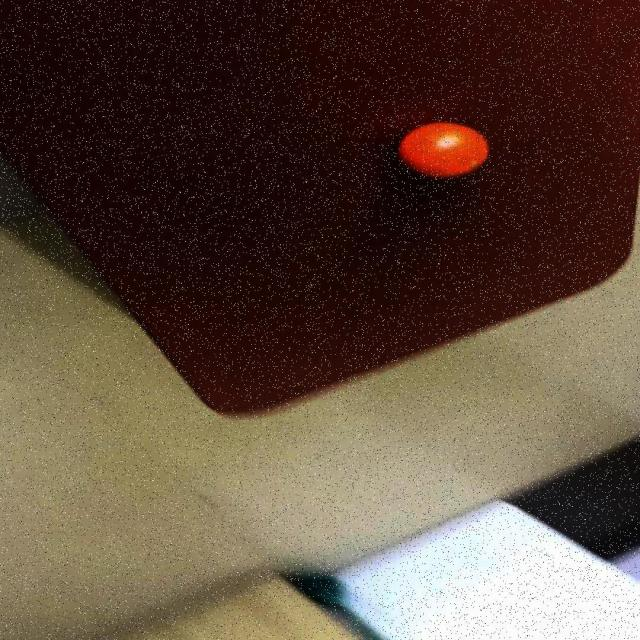Orange: (398, 121, 491, 179)
